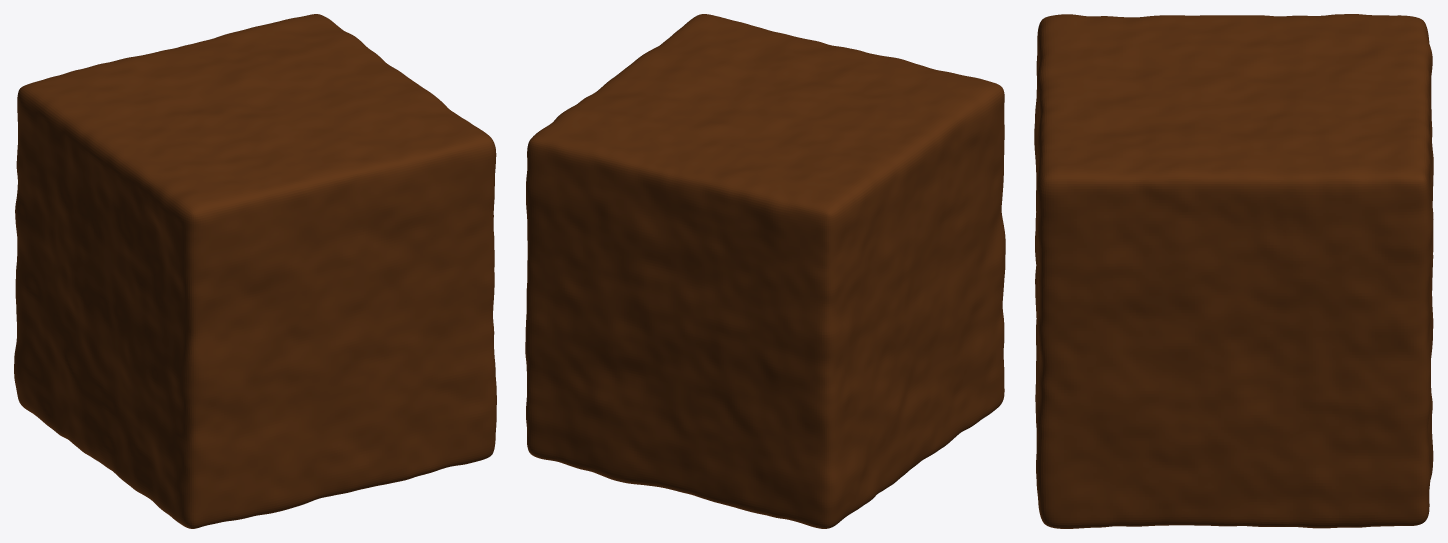
Rendered from SoilBlock1.fbx.
The picture shows the model from 3 angles, left to right: view 1: azimuth 30°, elevation 25°; view 2: azimuth 150°, elevation 25°; view 3: azimuth 270°, elevation 25°; orthographic projection. The views are drawn at different scales.
Visible parts, largest first — view 1: Cube; view 2: Cube; view 3: Cube.
Boxes of the visible parts, x1,y1,x2,y2 form: Cube: (14, 14, 496, 528); Cube: (525, 14, 1005, 528); Cube: (1034, 14, 1433, 528).
Bounding box in the file's own units: 212 × 211 × 212.
